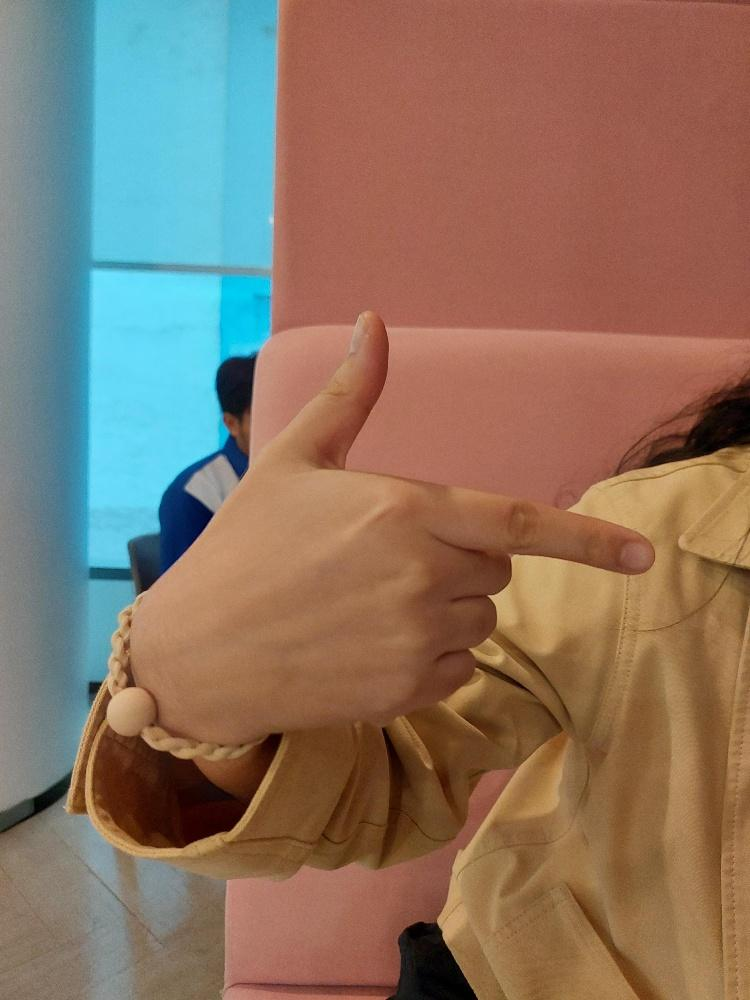g: (105, 302, 663, 752)
